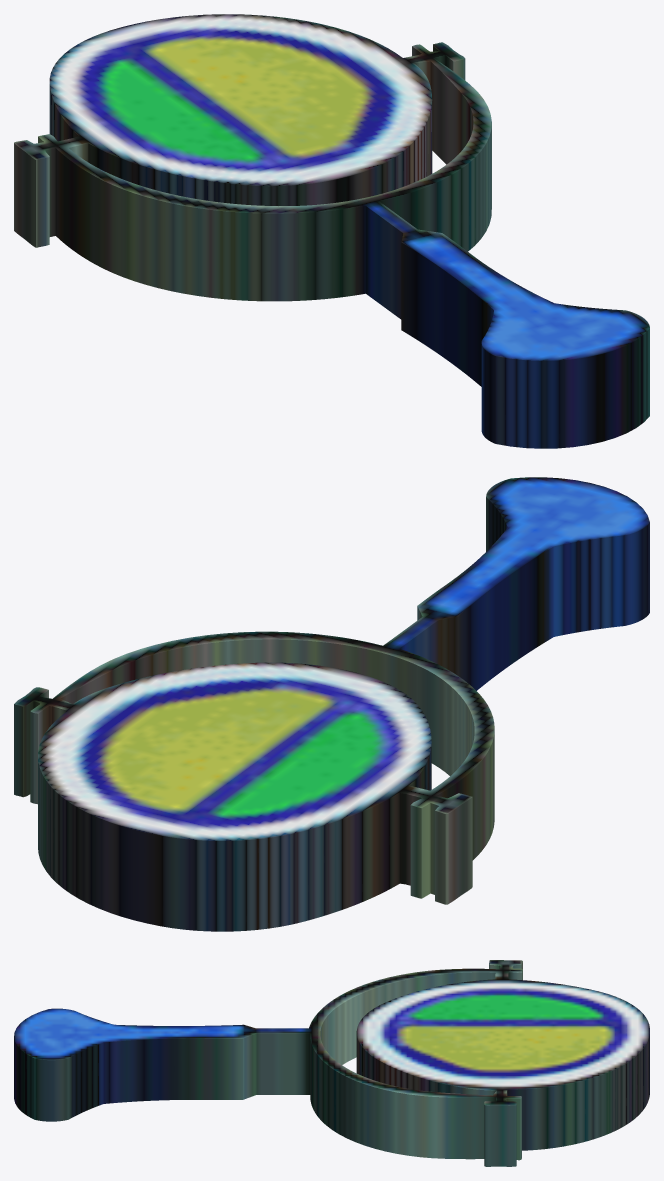
File: muro del sol 4.dae
3 renders of one model, top to bottom at view 1: azimuth 30°, elevation 25°; view 2: azimuth 150°, elevation 25°; view 3: azimuth 270°, elevation 25°, orthographic. The views are drawn at different scales.
Parts seen in each view (by area): view 1: SketchUp (×2); view 2: SketchUp (×2); view 3: SketchUp (×2).
Boxes of the visible parts, <box> form: SketchUp (×2): <box>14,14,649,448</box>; SketchUp (×2): <box>14,477,649,931</box>; SketchUp (×2): <box>14,960,649,1166</box>.
Size of the model in its own units: 14.3 by 26.4 by 2.81.
